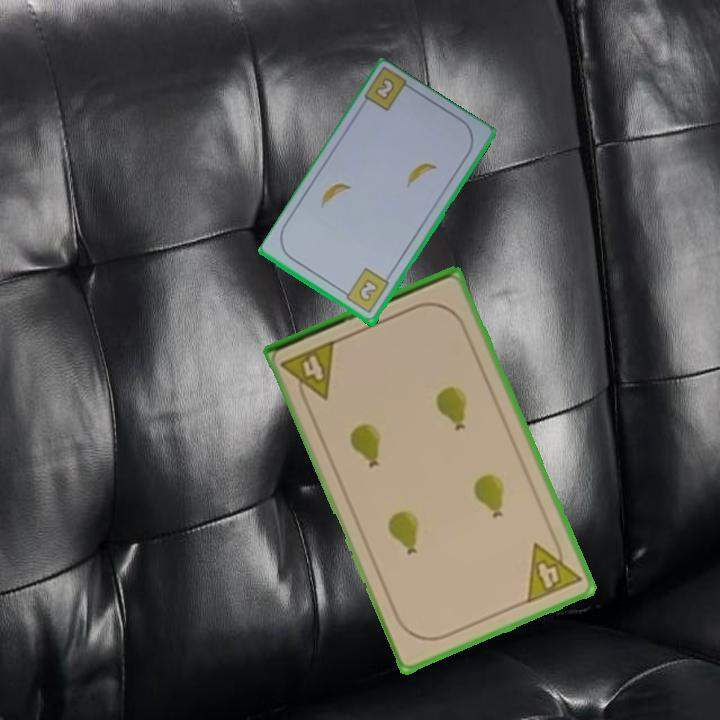2b: (338, 265, 392, 317), (371, 73, 398, 104)
4p: (523, 532, 585, 607), (278, 336, 339, 409)
